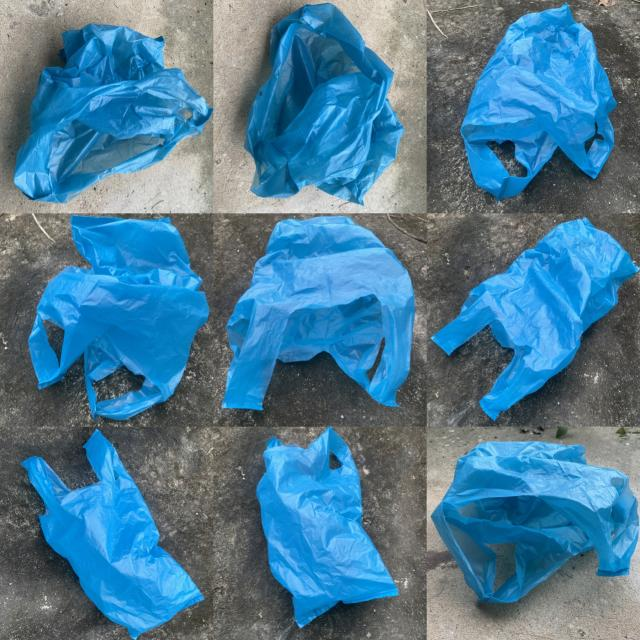Single-layer Plastic: (431, 219, 640, 419), (21, 430, 204, 639), (222, 216, 415, 409), (29, 216, 209, 420), (15, 24, 211, 202), (431, 441, 639, 602), (245, 4, 404, 203), (461, 4, 616, 201), (256, 428, 398, 627)
